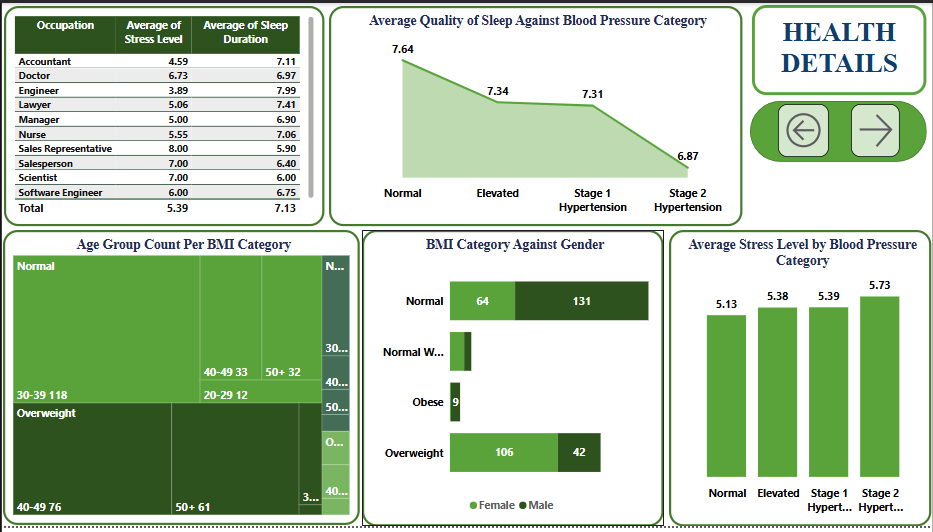

This screenshot's page, from the dashboard's own definition file:
{"tool":"powerbi","page":{"name":"Health Details","canvas":[1280,720],"ordinal":3},"visuals":[{"type":"tableEx","fields":{"Values":["Sleep_health_and_lifestyle_dataset.Occupation","Avg(Sleep_health_and_lifestyle_dataset.Stress Level)","Avg(Sleep_health_and_lifestyle_dataset.Sleep Duration)"]},"box":[3,4.5,440.7,303.2],"z":0},{"type":"treemap","title":"Age Group Count Per BMI Category ","fields":{"Group":["Sleep_health_and_lifestyle_dataset.BMI Category"],"Details":["Patient Details.Age Groups"],"Values":["CountNonNull(Patient Details.Age Groups)"]},"box":[1.5,312.2,491.5,406.3],"z":1000},{"type":"barChart","title":"BMI Category Against Gender","fields":{"Category":["Health Details.BMI Category"],"Series":["Sleep_health_and_lifestyle_dataset.Gender"],"Y":["CountNonNull(Sleep_health_and_lifestyle_dataset.Gender)"]},"box":[495.9,312.2,415.3,407.8],"z":2000},{"type":"columnChart","title":"Average Stress Level by Blood Pressure Category","fields":{"Y":["Avg(Sleep_health_and_lifestyle_dataset.Stress Level)"],"Category":["Health Details.Blood Pressure Category"]},"box":[918.7,312.2,361.5,407.8],"z":3000},{"type":"areaChart","title":"Average Quality of Sleep Against Blood Pressure Category","fields":{"Y":["Avg(Sleep_health_and_lifestyle_dataset.Quality of Sleep)"],"Category":["Health Details.Blood Pressure Category"]},"box":[449.6,4.5,569.1,303.2],"z":4000},{"type":"shape","box":[1029.2,134.4,243.5,83.7],"z":5000},{"type":"actionButton","box":[1068,138.9,70.2,73.2],"z":6000},{"type":"actionButton","box":[1168.1,138.9,67.2,73.2],"z":7000},{"type":"textbox","box":[1032.2,3,240.5,124],"z":8000}]}

Visuals, with their boxes in screenshot pixels (x1, y1, x2, y2), scaled from the page's 1280x720 canvas onto the 933x532 screenshot:
tableEx - Sleep_health_and_lifestyle_dataset.Occupation x Avg(Sleep_health_and_lifestyle_dataset.Stress Level): l=2, t=3, r=323, b=227
"Age Group Count Per BMI Category " treemap: l=1, t=231, r=359, b=531
"BMI Category Against Gender" barChart: l=361, t=231, r=664, b=531
"Average Stress Level by Blood Pressure Category" columnChart: l=670, t=231, r=932, b=531
"Average Quality of Sleep Against Blood Pressure Category" areaChart: l=328, t=3, r=743, b=227
shape: l=750, t=99, r=928, b=161
actionButton: l=778, t=103, r=830, b=157
actionButton: l=851, t=103, r=900, b=157
textbox: l=752, t=2, r=928, b=94
